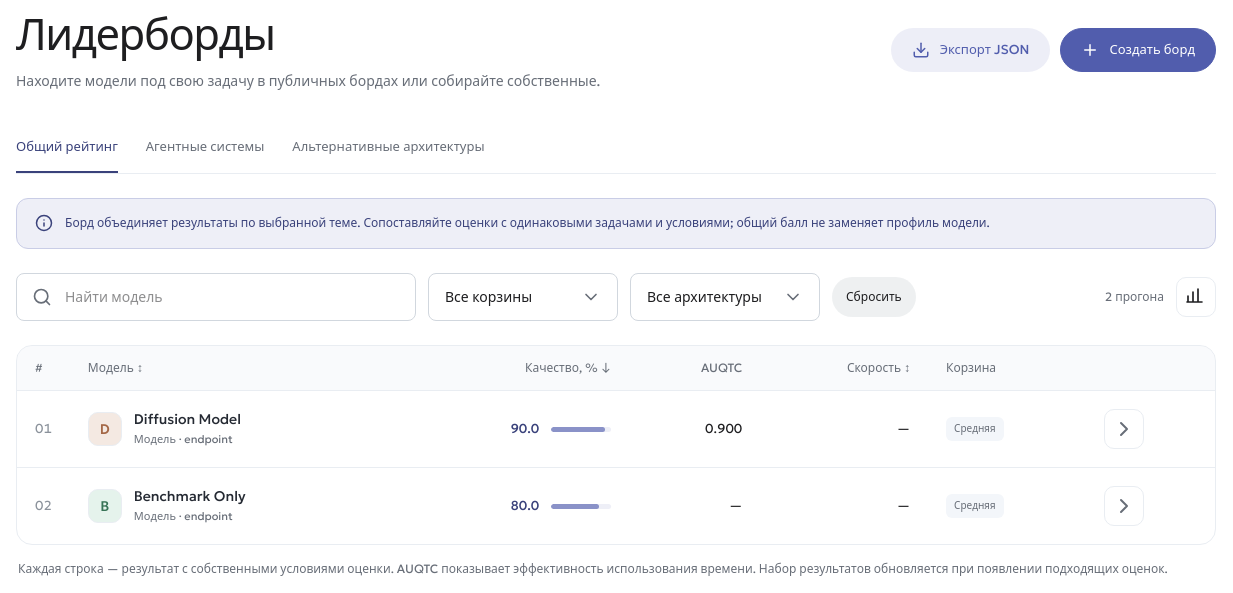
Test case: Rendered source mode views › separates system tabs, excludes models without matching results and filters architectures
This screenshot has width=1233, height=593.
Check: the table shows "90.0", box [510,420,539,437]
Check: the table shows "Benchmark Only", box [134,487,246,505]
Click the tab "Агентные системы": coordinates (205, 148) [146,123,264,173]
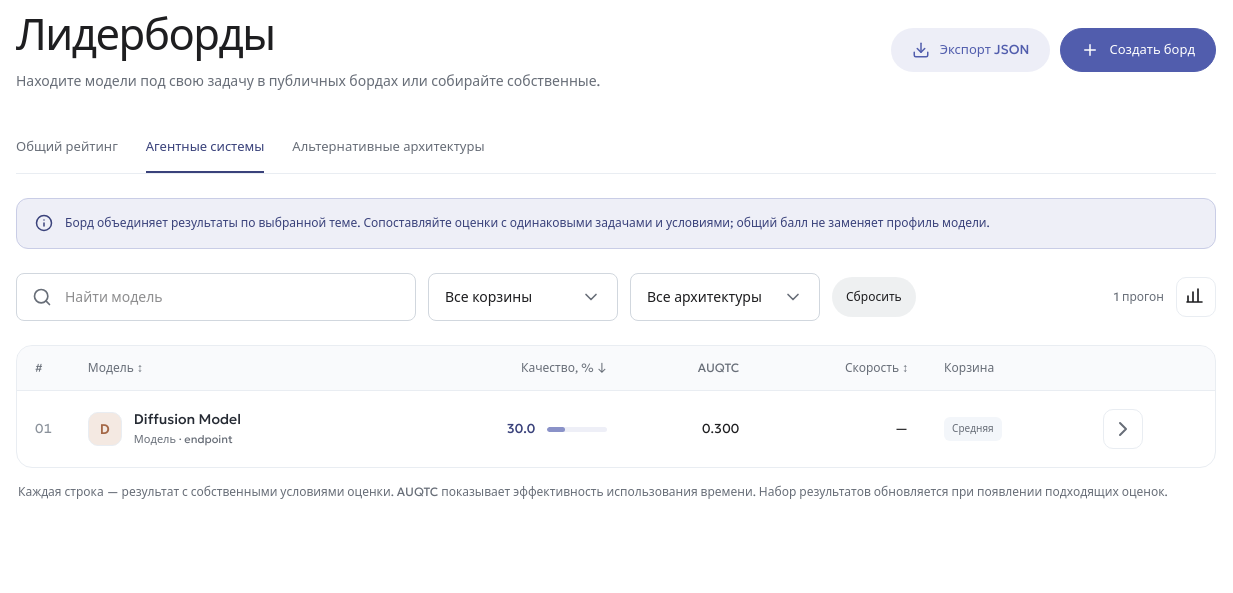
Check: the table shows "30.0", box [506,420,535,437]
Check: the table no longer shows "90.0", box [17,346,1215,467]
Check: the table no longer shows "Benchmark Only", box [17,346,1215,467]
Click the tab "Альтернативные архитектуры": coordinates (388, 148) [292,123,485,173]
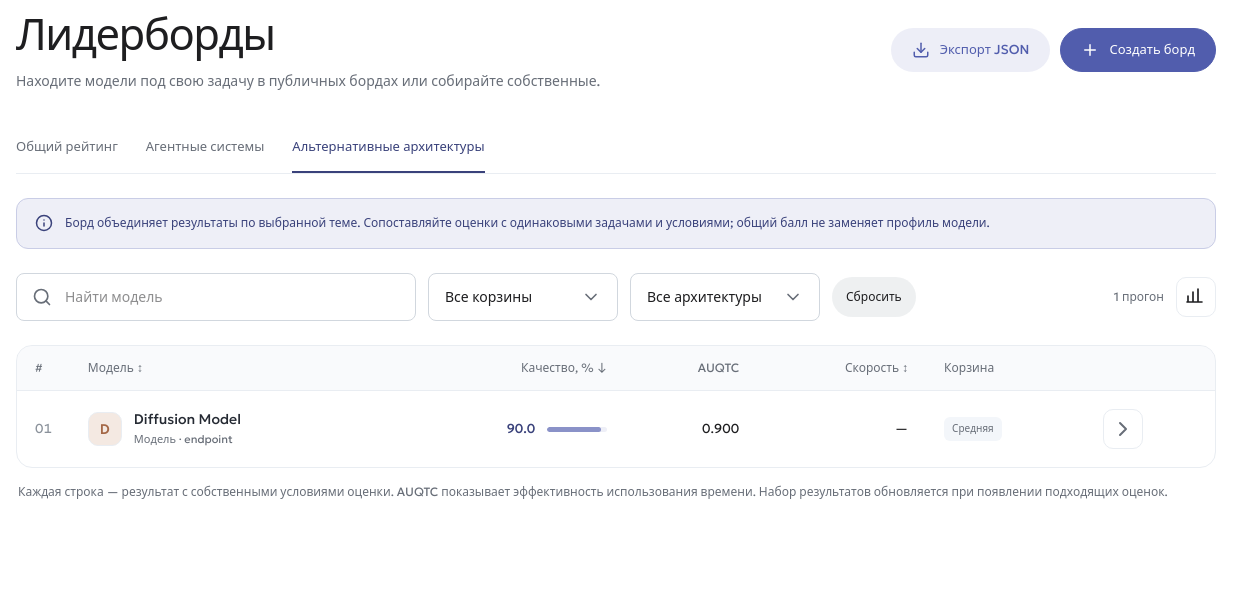
Check: the table does not show "Benchmark Only", box [17,346,1215,467]
Check: the table shows "90.0", box [506,420,535,437]
